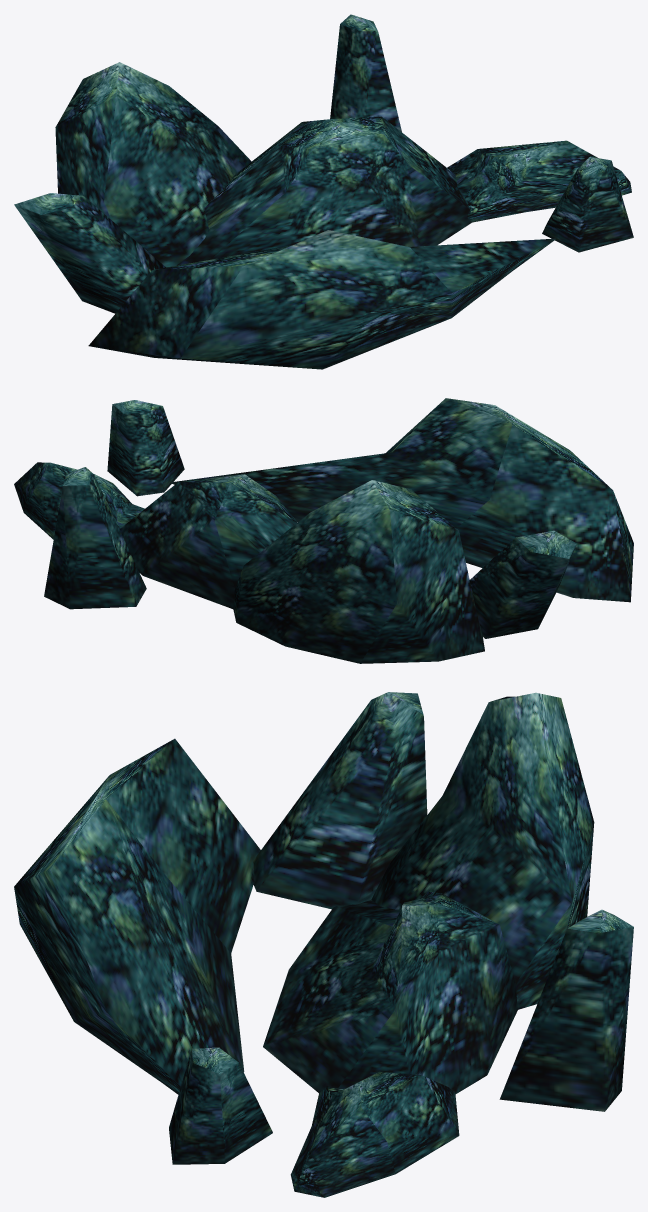
The model's file is rocksBig00.obj.
3 renders of one model, top to bottom at view 1: azimuth 30°, elevation 25°; view 2: azimuth 150°, elevation 25°; view 3: azimuth 270°, elevation 25°, orthographic. The views are drawn at different scales.
Visible parts, largest first — view 1: NorthrendFissure0(m0); view 2: NorthrendFissure0(m0); view 3: NorthrendFissure0(m0).
Part boxes in pixels (x1,y1,x2,y2): NorthrendFissure0(m0): (14, 14, 633, 369); NorthrendFissure0(m0): (14, 398, 633, 663); NorthrendFissure0(m0): (14, 692, 633, 1197).
Size of the model in its own units: 10.24 by 2.84 by 7.07.
1 material, 1 textured.
